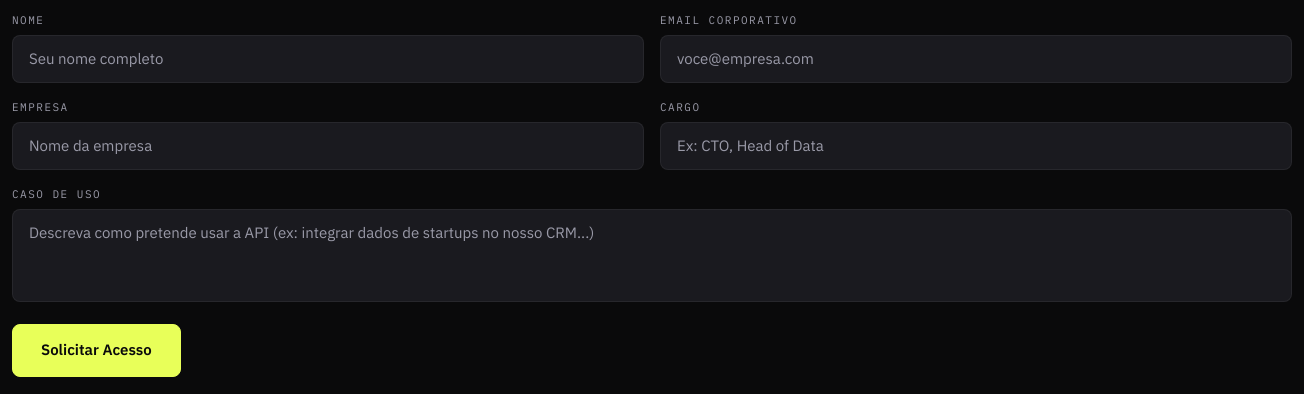
Test: ApiAccessForm › disables button during loading state
Type "Ana" into the field labelled "Nome" at (328, 59), box [12, 34, 644, 83]
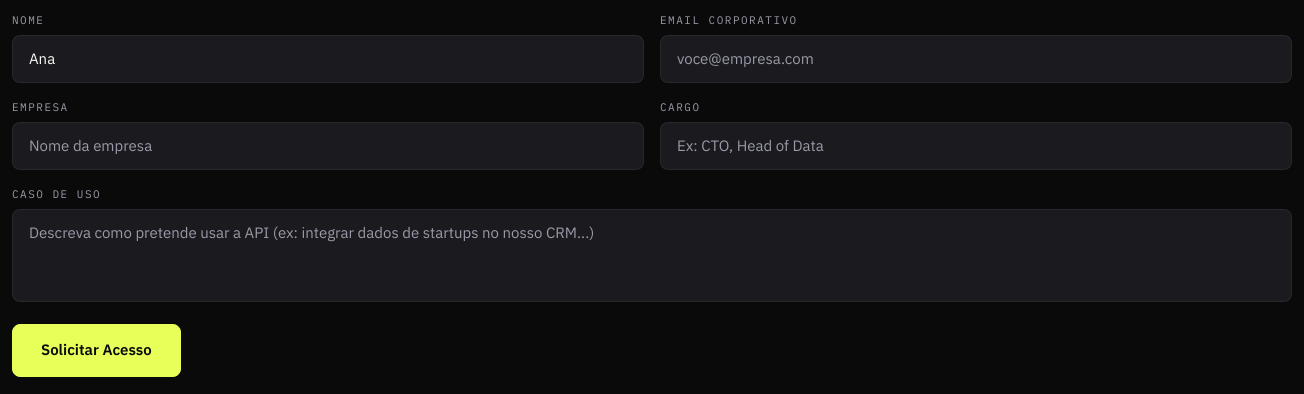
Type "ana@empresa.com" into the field labelled "Email corporativo" at (976, 59), box [660, 34, 1292, 83]
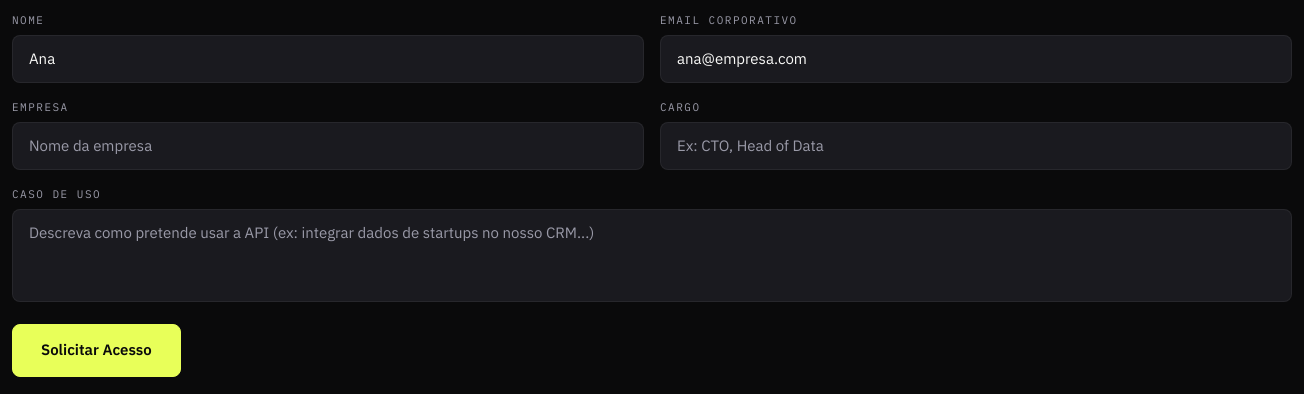
Type "TechCo" into the field labelled "Empresa" at (328, 146), box [12, 122, 644, 170]
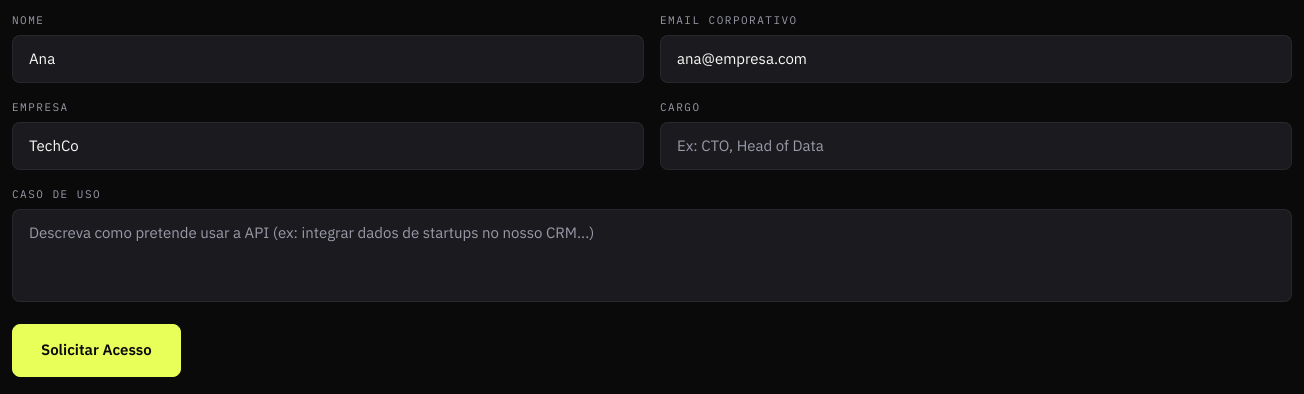
Type "CTO" into the field labelled "Cargo" at (976, 146), box [660, 122, 1292, 170]
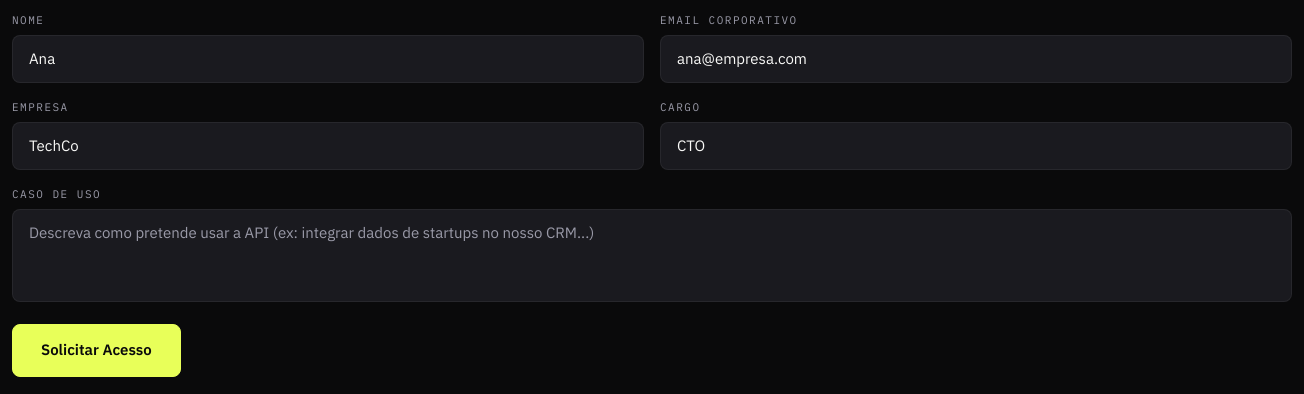
Replace the text in the text box labelled "Caso de uso" with "Integrar dados de startups LATAM" at (652, 255), box [12, 208, 1292, 302]
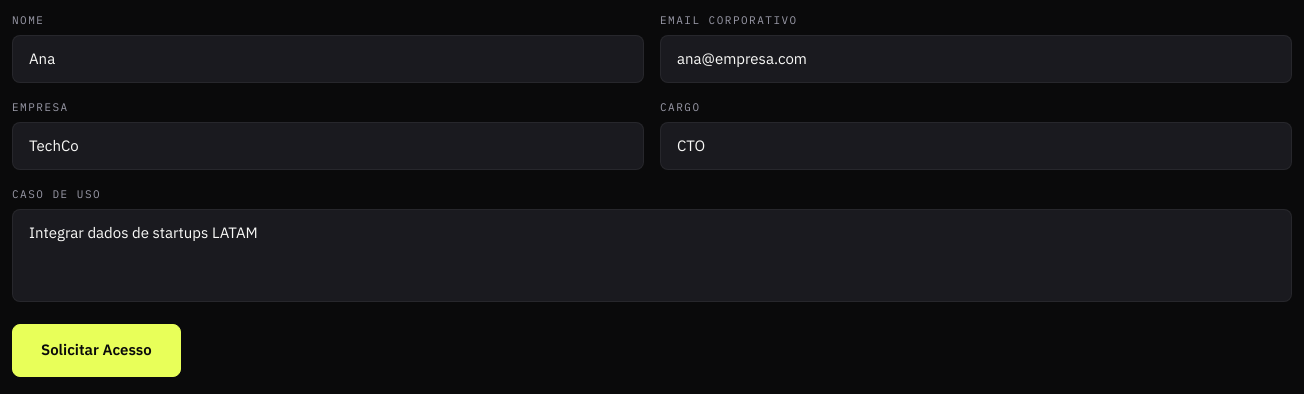
Submit the form "Solicitar Acesso"
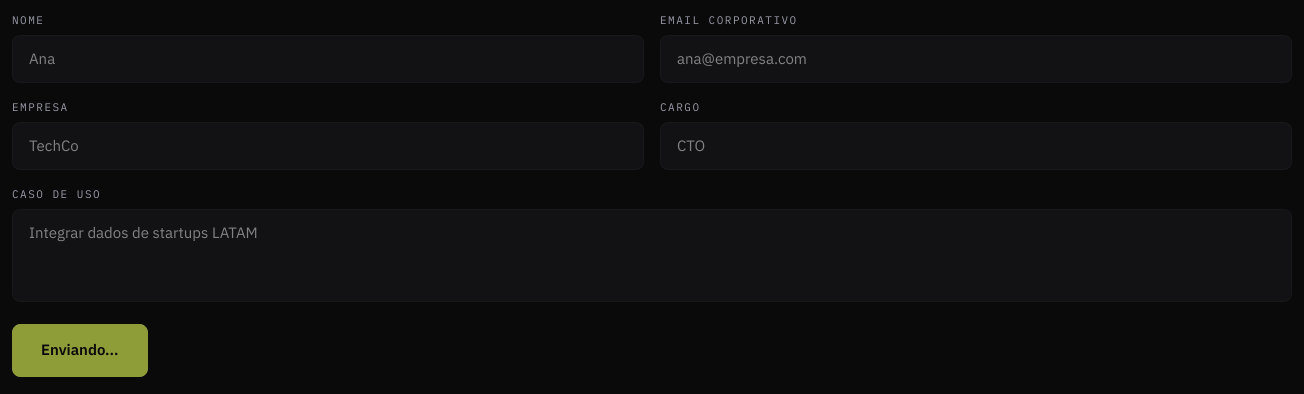
Result: the button "Enviando..." is disabled at [12, 324, 148, 376]
